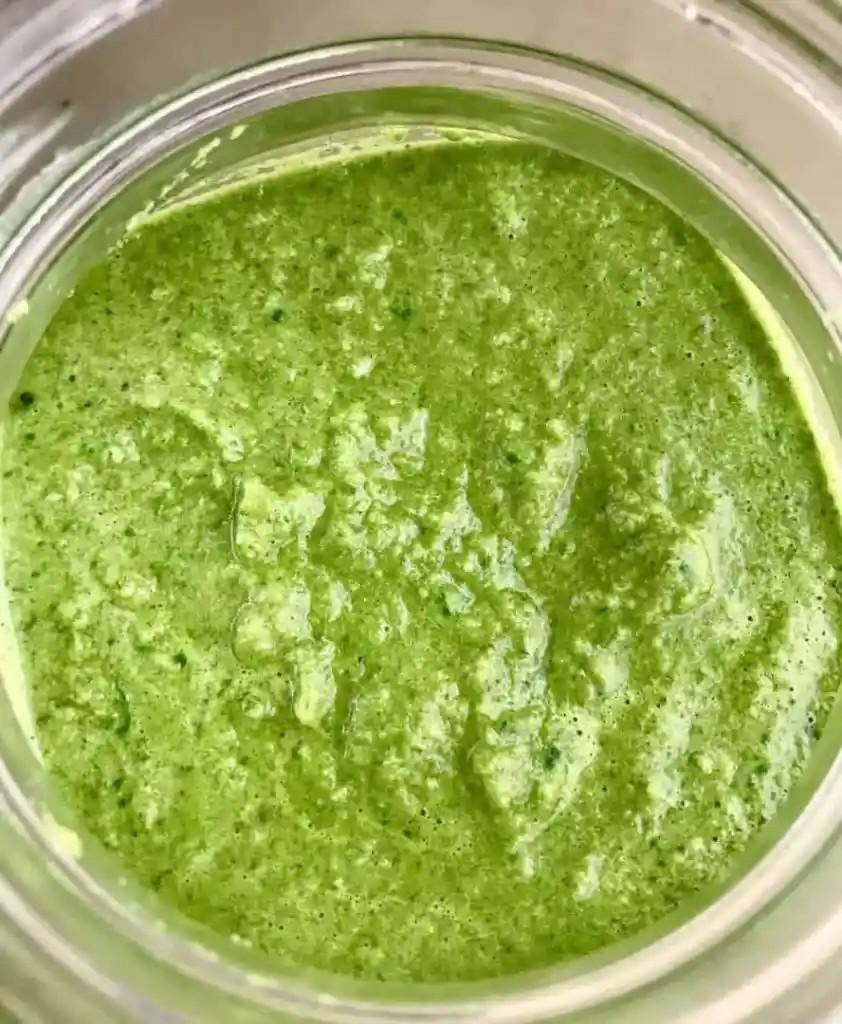GreenChutney: (0, 127, 842, 988)
